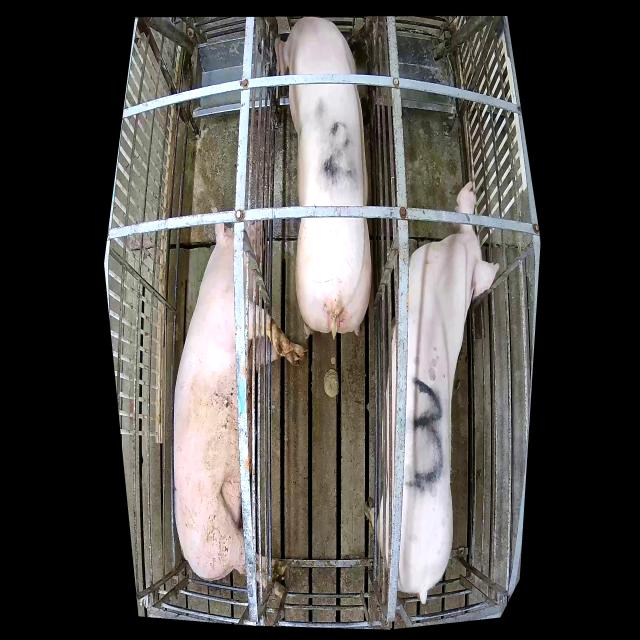pig: (364, 180, 500, 604), (174, 207, 308, 601), (275, 18, 372, 339)
